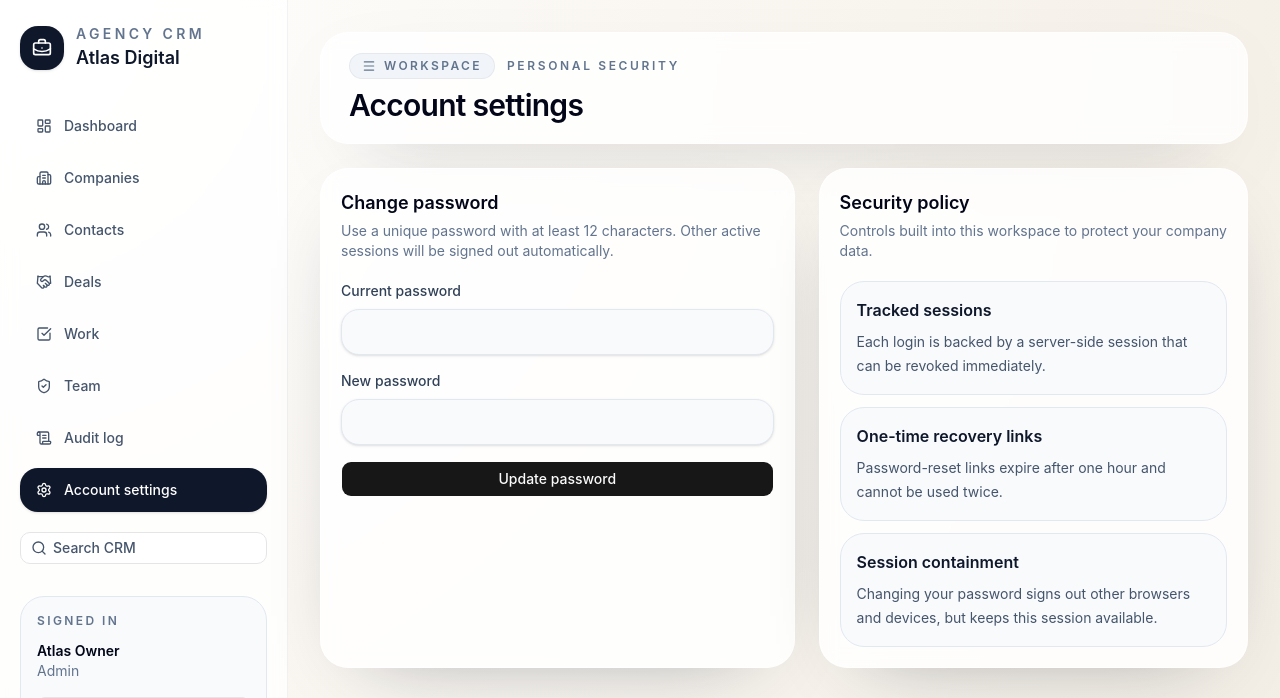
Test: agency CRM authentication › lets an authenticated user change their password from account settings
expect the heading "Account settings" is shown: met, box [349, 87, 583, 123]
Type "AtlasAdmin123!" into the password field labelled "Current password". click: x=557, y=332
box: [341, 309, 774, 355]
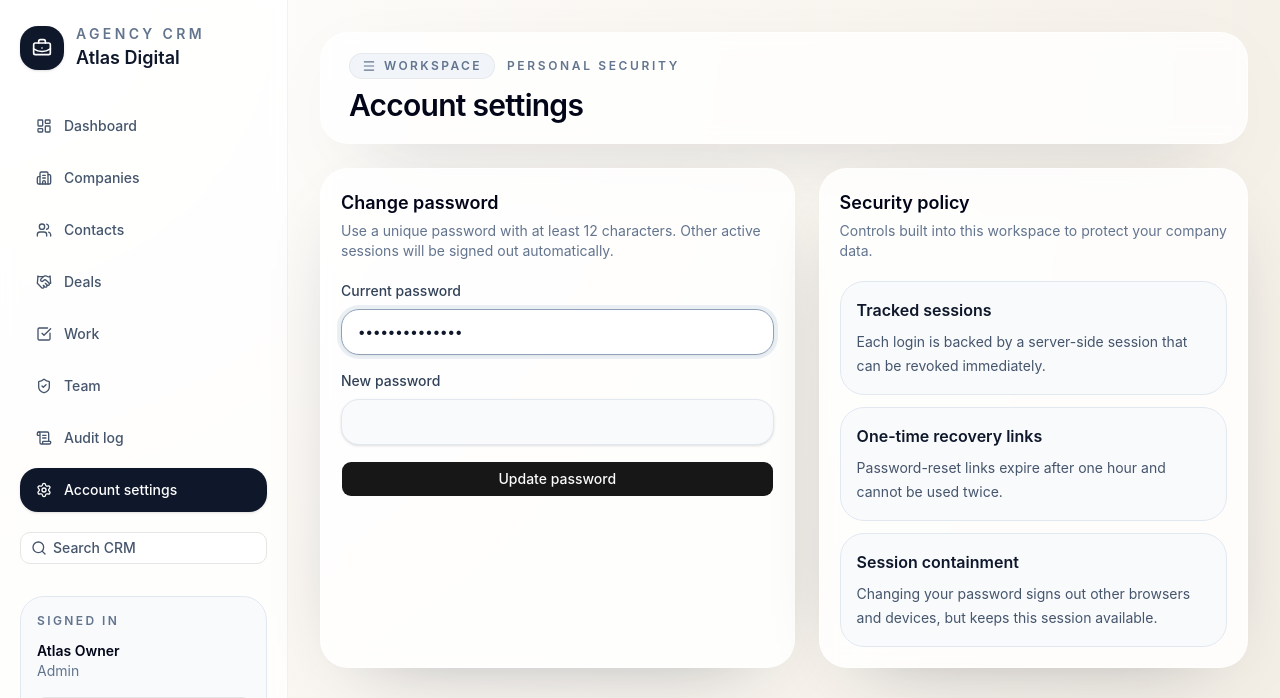
Type "ChangedPassword123!" into the password field labelled "New password". click: x=557, y=422
box: [341, 399, 774, 445]
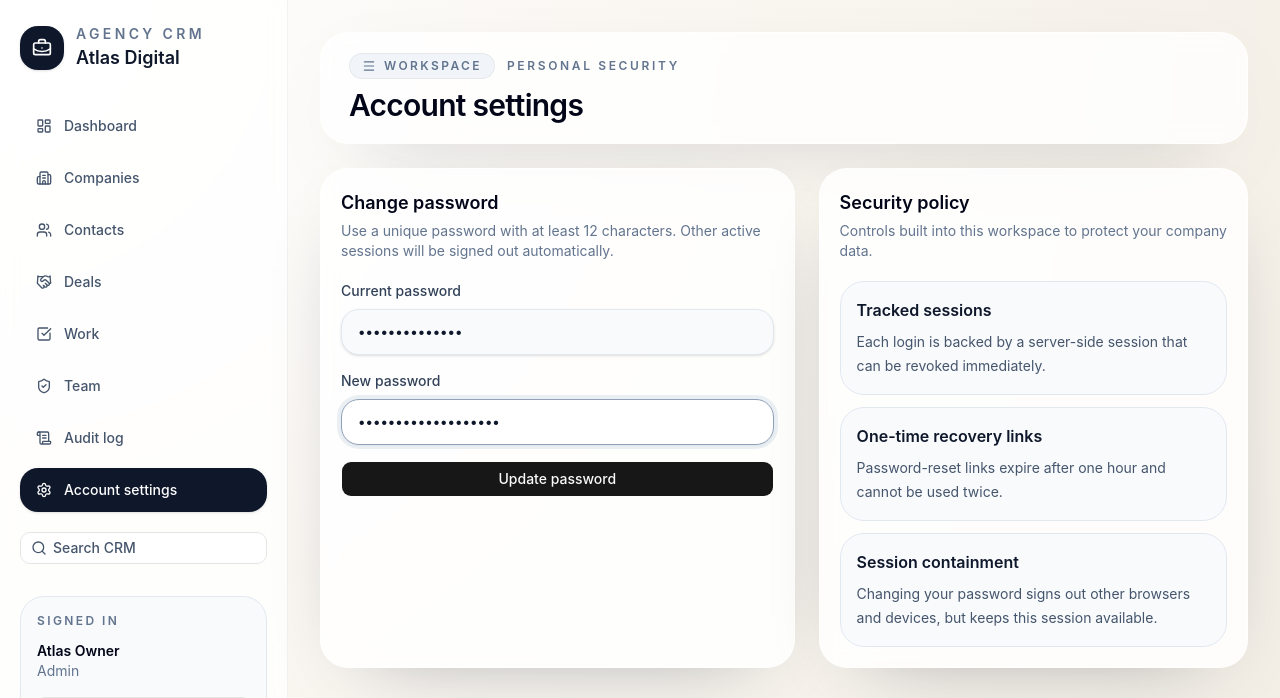
Click the button "Update password". click: x=557, y=479
box: [341, 461, 774, 497]
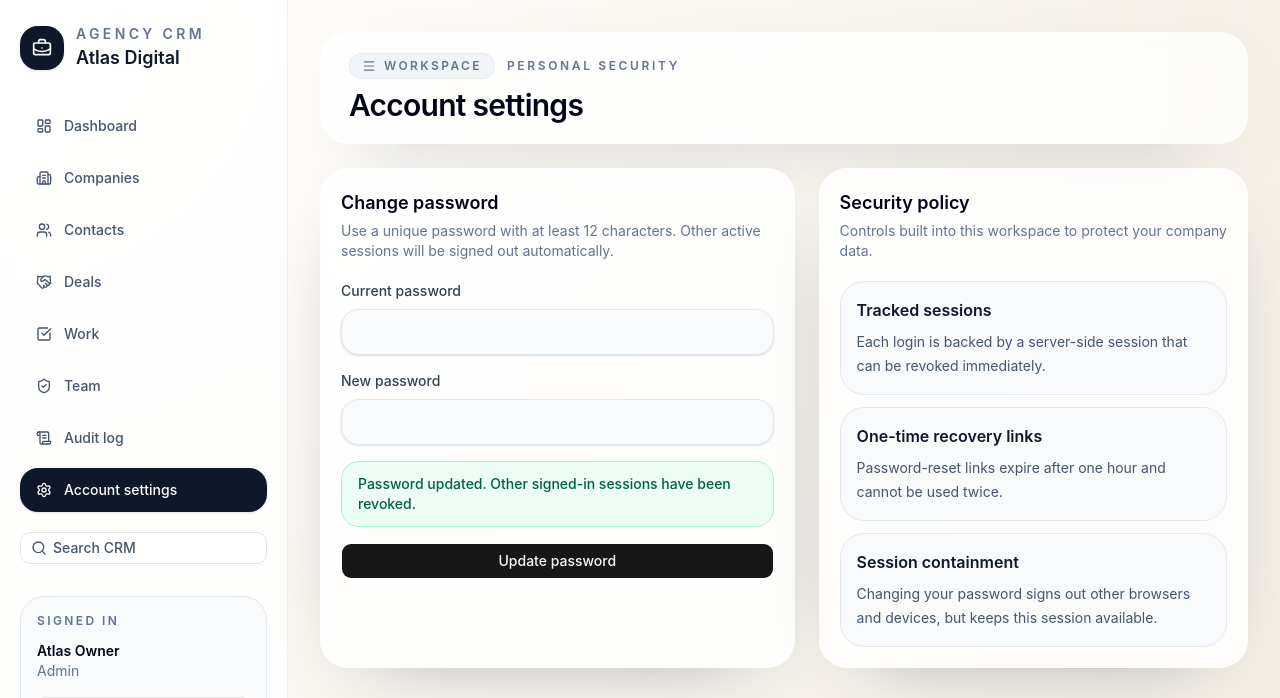
expect the text "Password updated. Other signed-in sessions have been revoked." is shown: met, box [341, 461, 774, 527]
